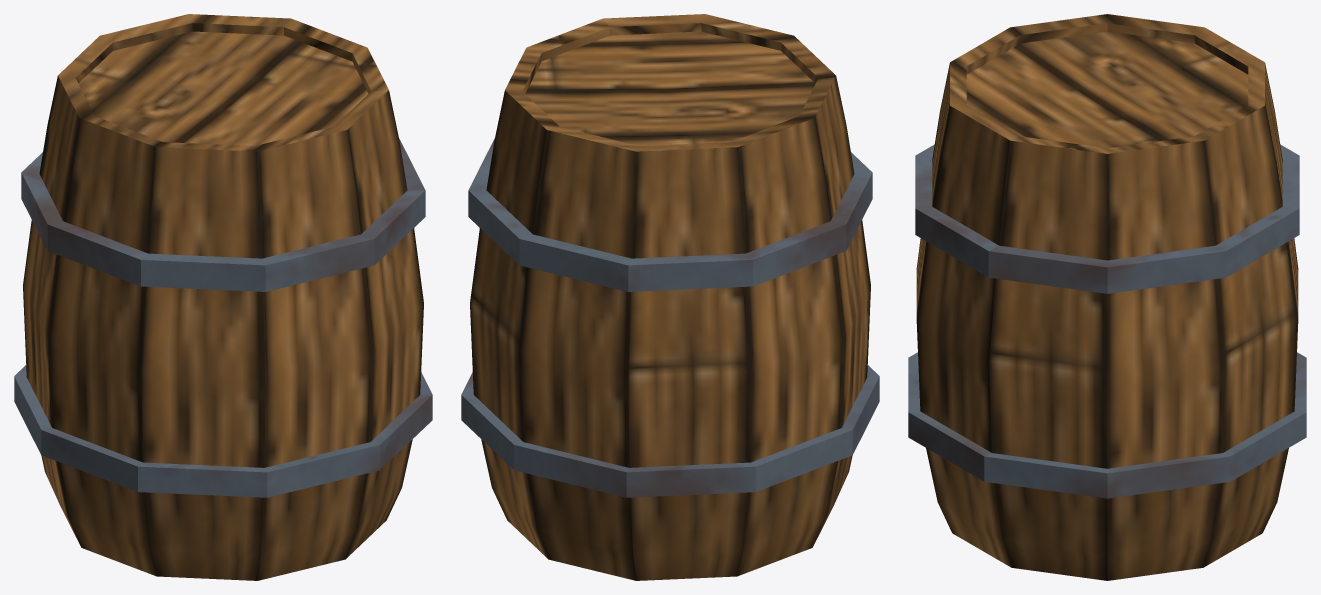
Rendered from Props_Tonneau.fbx.
3 views of the same model, side by side, from view 1: azimuth 30°, elevation 25°; view 2: azimuth 150°, elevation 25°; view 3: azimuth 270°, elevation 25° (orthographic).
Parts seen in each view (by area): view 1: Props_tonneau; view 2: Props_tonneau; view 3: Props_tonneau.
Part boxes in pixels (x1=…): Props_tonneau: x1=14, y1=14, x2=432, y2=580; Props_tonneau: x1=461, y1=14, x2=879, y2=580; Props_tonneau: x1=908, y1=14, x2=1306, y2=580.
Size of the model in its own units: 239 by 272 by 228.
